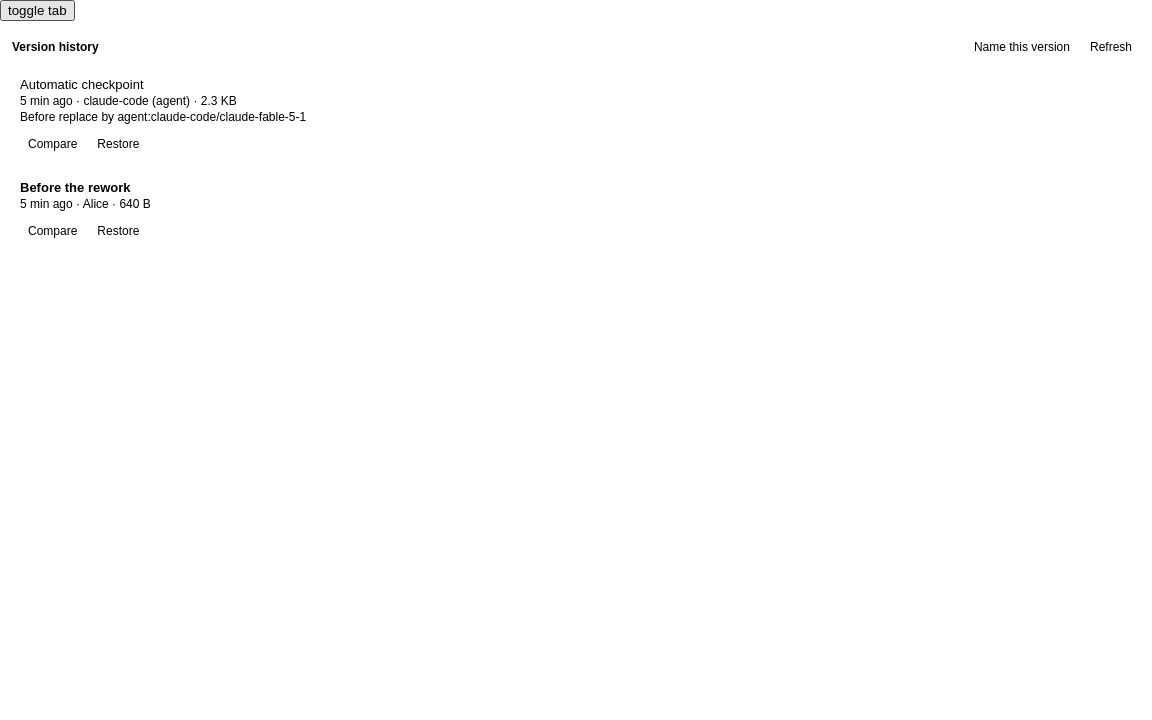
Test: HistoryPanel › explains a restore refused because the document moved on, and changes nothing
Expected: the text "Before the rework" is shown, left=20, top=180, right=130, bottom=195
Click the button with aria-label "Restore Before the rework": [118, 231] box left=89, top=217, right=147, bottom=245
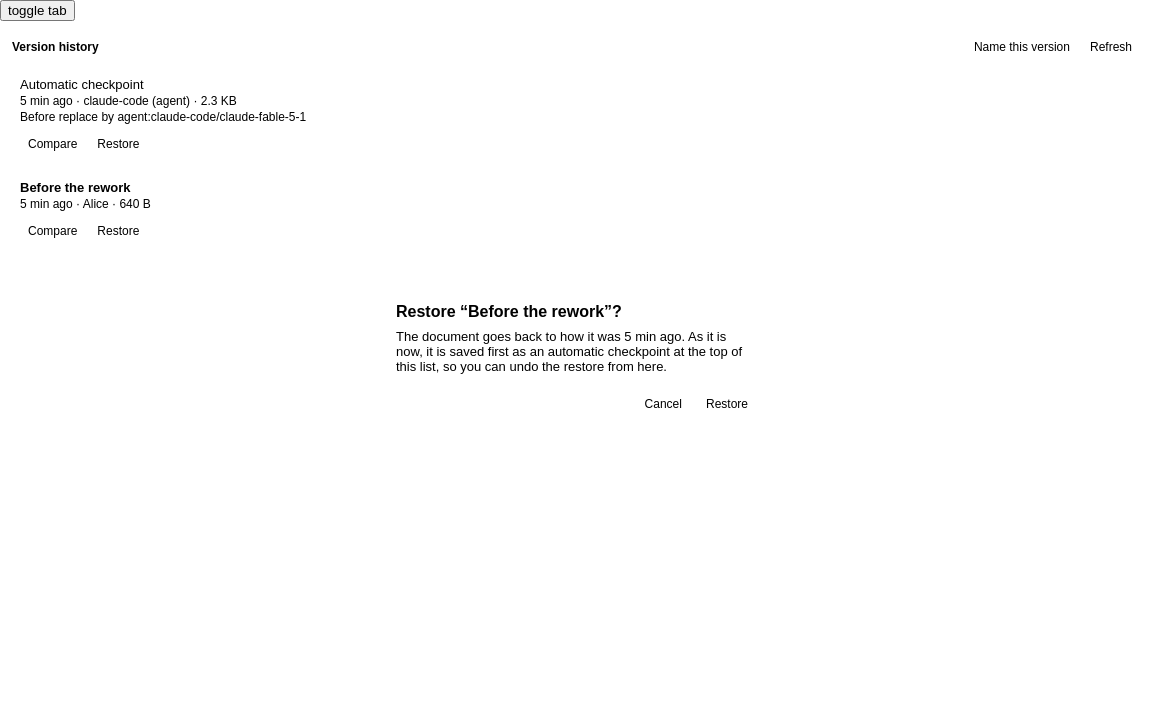
Click the button "Restore": [727, 404] box left=698, top=390, right=756, bottom=418
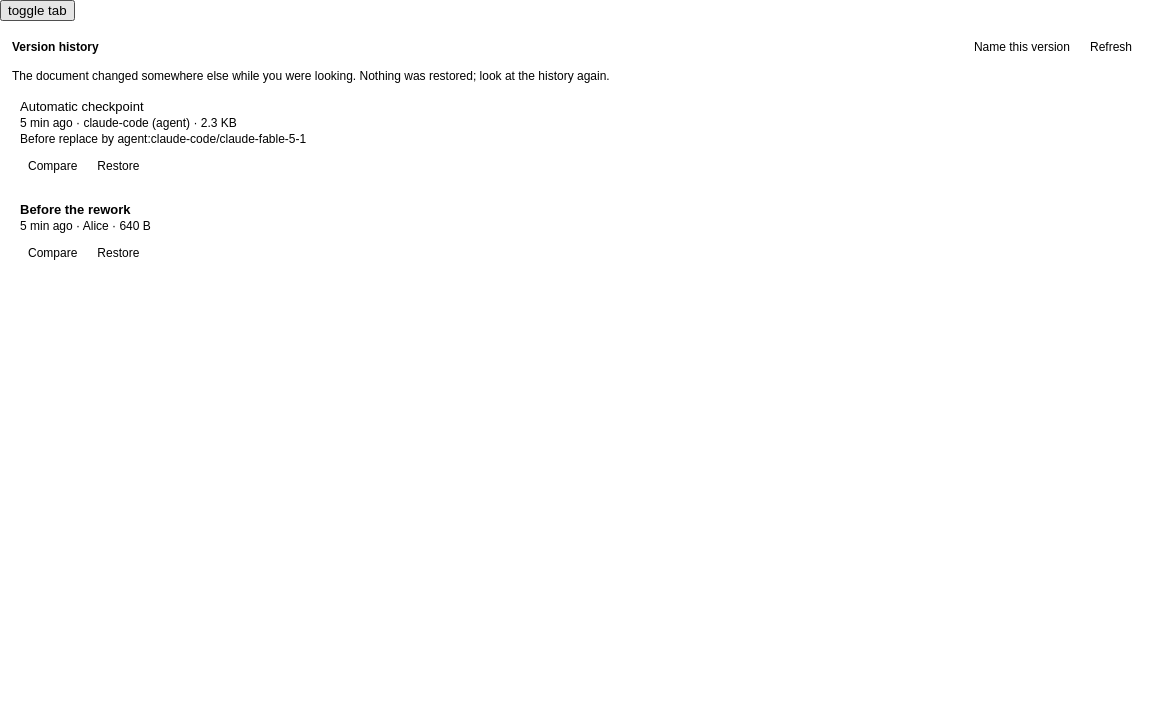
Now the message shows "changed somewhere else", box left=12, top=69, right=610, bottom=83
